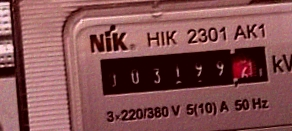0: (104, 67, 118, 89), (127, 64, 141, 86)
1: (170, 59, 183, 79)
3: (149, 65, 162, 85)
6: (238, 63, 250, 80)
9: (191, 57, 205, 79), (212, 57, 226, 77)
screen: (91, 34, 278, 110)
